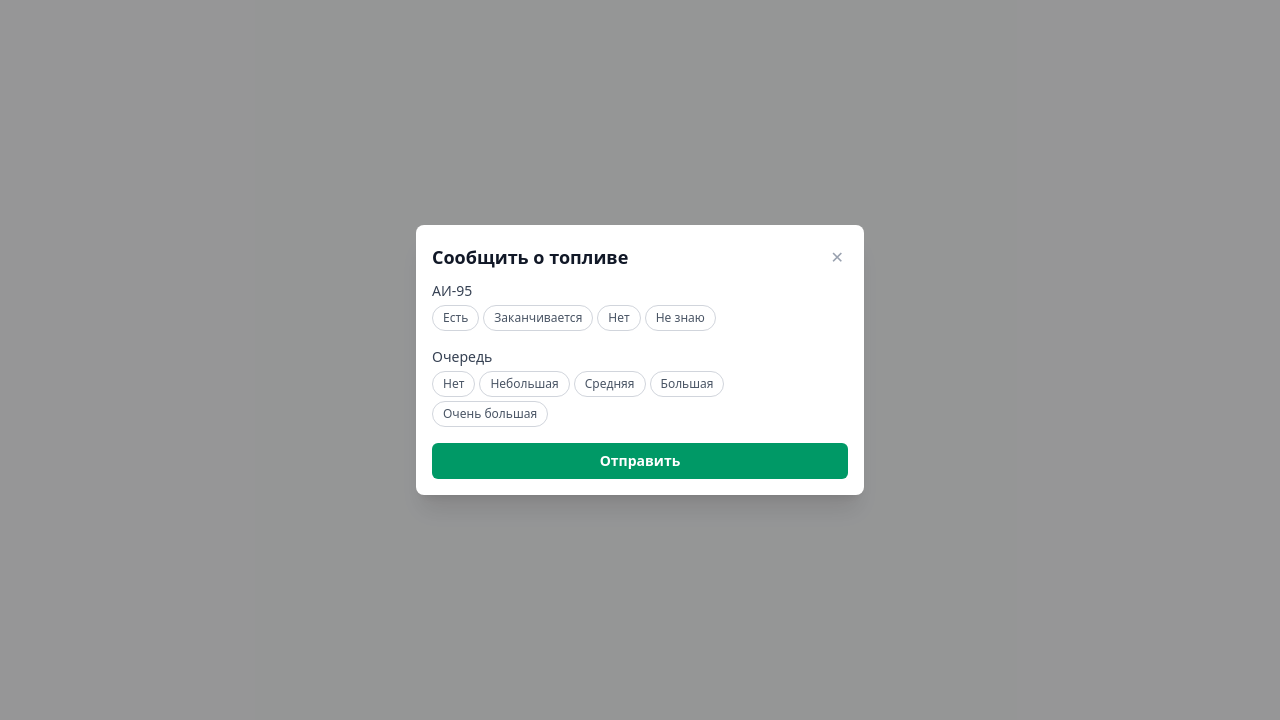
Scenario: ReportForm (R39) › пустая отправка отклоняется валидацией — ни одного топлива/очереди не отмечено
This screenshot has width=1280, height=720.
Expected: the text "АИ-95" is shown, x1=432 y1=281 x2=472 y2=300
Click the button "Отправить" at (640,461), box x1=432 y1=443 x2=848 y2=479
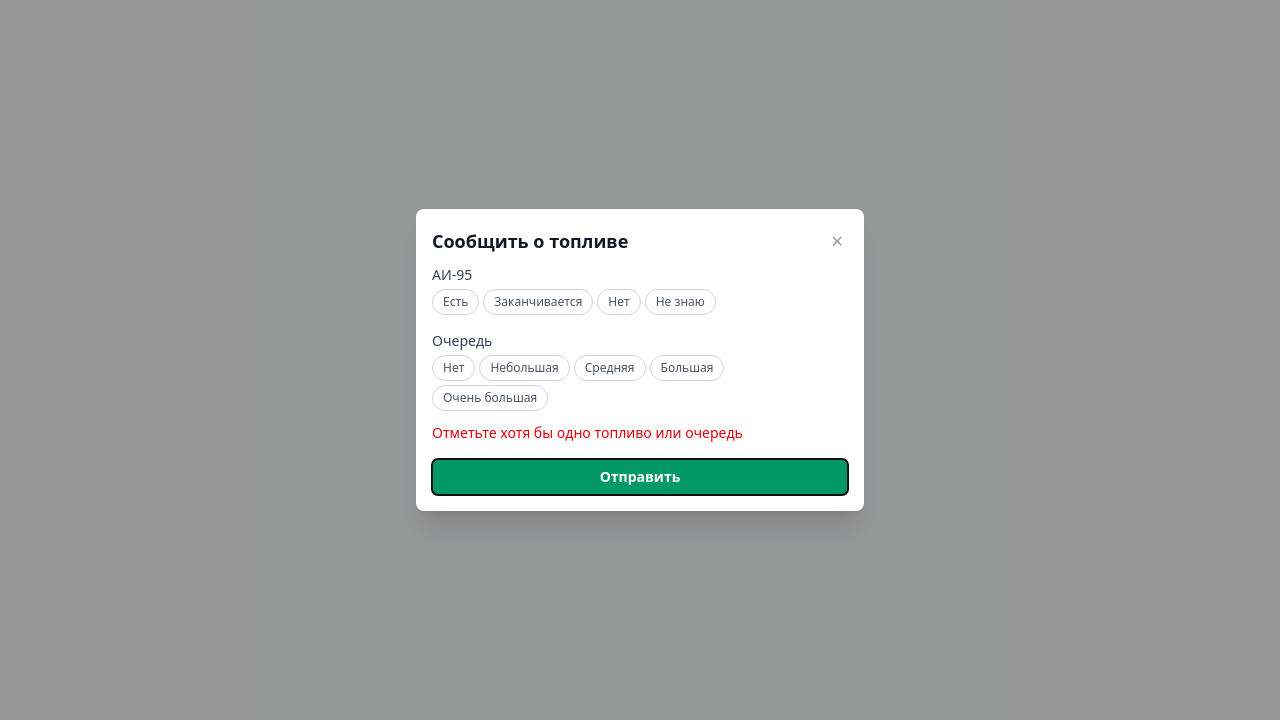
Now the text "Отметьте хотя бы одно топливо или очередь" is shown, box x1=432 y1=423 x2=743 y2=442
